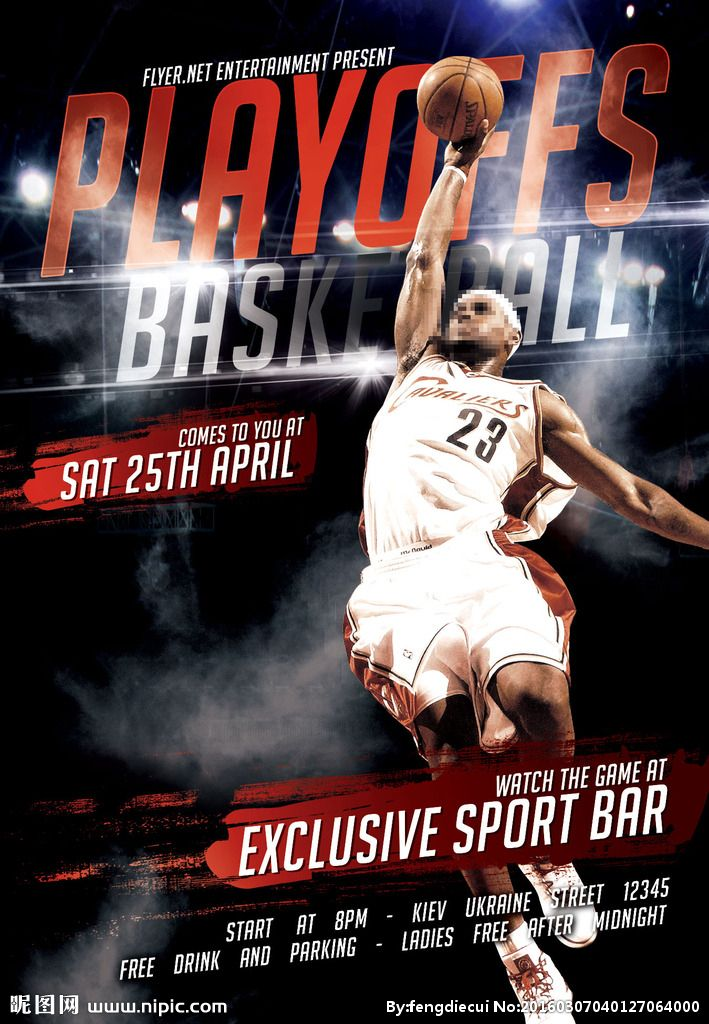ball: (415, 51, 506, 147)
